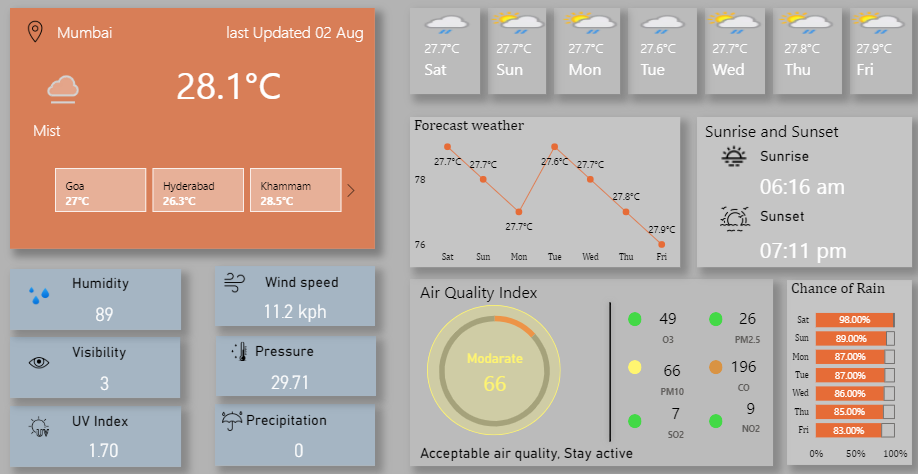

The dashboard page shown, as its layout file describes it:
{"tool":"powerbi","page":{"name":"Page 1","canvas":[1150,600],"ordinal":0},"visuals":[{"type":"shape","box":[512.2,350,454.4,234.4],"z":0},{"type":"donutChart","fields":{"Y":["Sum(current.current.air_quality.pm10)","key Measures.left value pm 10"]},"box":[498.6,374.3,238.6,182.9],"z":1000},{"type":"shape","box":[12.9,11.4,455.7,301.4],"z":2000},{"type":"shape","box":[871.2,147.5,268.8,187.5],"z":3000},{"type":"shape","box":[534.3,382.9,167.1,162.9],"z":4000},{"type":"advancedSlicerVisual","fields":{"Values":["location.location.name"]},"box":[44.3,205.7,410,65.7],"z":5000},{"type":"shape","box":[220,73.3,140,63.3],"z":6000},{"type":"shape","box":[41.7,145,360,35],"z":7000},{"type":"shape","box":[71.7,20,148.3,41.7],"z":8000},{"type":"shape","box":[178.6,20,160,41.4],"z":9000},{"type":"image","box":[25,18.3,38.3,43.3],"z":10000},{"type":"shape","box":[241.1,20,213.3,41.1],"z":11000},{"type":"cardVisual","fields":{"Data":["Min(current.current.condition.icon)"]},"box":[33.3,63.3,160,81.7],"z":12000},{"type":"shape","box":[12.9,337.1,214.3,75.7],"z":13000},{"type":"shape","box":[12.9,508.6,214.3,75.7],"z":14000},{"type":"shape","box":[268.8,506.2,200,76.7],"z":15000},{"type":"shape","box":[12.9,422.9,212.9,75.7],"z":16000},{"type":"shape","box":[270,421.2,200,75],"z":17000},{"type":"shape","box":[268.8,333.8,200,75],"z":18000},{"type":"shape","box":[90,336.2,137.5,37.5],"z":19000},{"type":"image","box":[27.1,351.4,42.9,38.6],"z":20000},{"type":"shape","box":[331.2,335,137.5,37.5],"z":21000},{"type":"image","box":[268.8,335,48.8,38.8],"z":22000},{"type":"image","box":[25.7,435.7,44.3,37.1],"z":23000},{"type":"shape","box":[90,422.5,131.2,37.5],"z":24000},{"type":"shape","box":[318.8,421.2,137.5,37.5],"z":25000},{"type":"shape","box":[90,508.8,131.2,37.5],"z":26000},{"type":"shape","box":[307.5,507.5,147.5,37.5],"z":27000},{"type":"image","box":[280,422.5,38.8,35],"z":28000},{"type":"image","box":[268.8,510,43.8,35],"z":29000},{"type":"image","box":[25.7,515.7,44.3,35.7],"z":30000},{"type":"card","fields":{"Values":["Sum(current.current.pressure_in)"]},"box":[270,460,186.2,37.5],"z":31000},{"type":"card","fields":{"Values":["key Measures.wind_speed"]},"box":[268.8,371.2,200,37.5],"z":32000},{"type":"card","fields":{"Values":["Sum(current.current.uv)"]},"box":[32.9,544.3,192.9,38.6],"z":33000},{"type":"card","fields":{"Values":["Sum(current.current.precip_in)"]},"box":[280,544.3,187.1,38.6],"z":34000},{"type":"card","fields":{"Values":["Sum(current.current.vis_km)"]},"box":[33.8,461.2,193.8,37.5],"z":35000},{"type":"card","fields":{"Values":["Sum(current.current.humidity)"]},"box":[33.8,375,193.8,37.5],"z":36000},{"type":"advancedSlicerVisual","fields":{"Values":["forecast Day.Day_Name"]},"box":[512.5,5,638.8,113.8],"z":37000},{"type":"lineChart","title":"Forecast weather","fields":{"Y":["Sum(forecast Day.forecast.forecastday.day.avghumidity)"],"Category":["forecast Day.Day_Name"]},"box":[512.5,147.5,337.5,187.5],"z":38000},{"type":"shape","box":[512.5,11.2,87.5,107.5],"z":39000},{"type":"shape","box":[610,11.2,72.5,107.5],"z":40000},{"type":"shape","box":[692.5,11.2,82.5,107.5],"z":41000},{"type":"shape","box":[785,11.2,86.2,107.5],"z":42000},{"type":"shape","box":[881.2,11.2,75,107.5],"z":43000},{"type":"shape","box":[966.2,11.2,86.2,107.5],"z":44000},{"type":"shape","box":[1062.5,11.2,77.5,107.5],"z":45000},{"type":"shape","box":[881.2,145,258.8,37.5],"z":46000},{"type":"shape","box":[950,211.2,137.5,41.2],"z":47000},{"type":"shape","box":[950,290,137.5,45],"z":48000},{"type":"shape","box":[950,180,137.5,31.2],"z":49000},{"type":"shape","box":[950,252.5,137.5,37.5],"z":50000},{"type":"image","box":[895,250,47.5,50],"z":51000},{"type":"image","box":[895,173.8,45,45],"z":52000},{"type":"hundredPercentStackedBarChart","title":"Chance of Rain","fields":{"Category":["forecast Day.Day_Name"],"Y":["Sum(forecast Day.forecast.forecastday.day.daily_chance_of_rain)","key Measures.left value rain"]},"box":[984.3,351.4,155.7,231.4],"z":53000},{"type":"shape","box":[525.6,350,190,31.1],"z":54000},{"type":"card","fields":{"Values":["Sum(current.current.air_quality.co)"]},"box":[902.5,440,53.8,56.2],"z":55000},{"type":"card","fields":{"Values":["Sum(current.current.air_quality.no2)"]},"box":[911.1,492.2,54.4,54.4],"z":56000},{"type":"card","fields":{"Values":["Sum(current.current.air_quality.o3)"]},"box":[808.8,381.2,52.5,53.8],"z":57000},{"type":"card","fields":{"Values":["Sum(current.current.air_quality.pm2_5)"]},"box":[902.5,381.2,63.8,53.8],"z":58000},{"type":"card","fields":{"Values":["Sum(current.current.air_quality.so2)"]},"box":[808.9,498.9,72.2,56.7],"z":59000},{"type":"card","fields":{"Values":["Sum(current.current.air_quality.pm10)"]},"box":[808.8,440,62.5,66.2],"z":60000},{"type":"shape","box":[886.4,518.6,17.1,17.9],"z":61000},{"type":"shape","box":[785,518.6,17.1,17.9],"z":62000},{"type":"shape","box":[886.4,450.7,17.1,17.9],"z":63000},{"type":"shape","box":[785,451.4,17.1,17.9],"z":64000},{"type":"shape","box":[785,391.4,17.1,17.9],"z":65000},{"type":"shape","box":[886.4,391.4,17.1,17.9],"z":66000},{"type":"shape","box":[715.7,371.4,92.9,190],"z":67000},{"type":"card","fields":{"Values":["Sum(current.current.air_quality.pm10)"]},"box":[573.3,438.3,90,66.7],"z":68000},{"type":"shape","box":[525.6,551.1,440,33.3],"z":69000}]}

Visuals, with their boxes in screenshot pixels (x1, y1, x2, y2), scaled from the page's 1150x600 canvas onto the 918x474 screenshot:
shape: bbox=[409, 276, 772, 462]
donutChart - Sum(current.current.air_quality.pm10) x key Measures.left value pm 10: bbox=[398, 296, 588, 440]
shape: bbox=[10, 9, 374, 247]
shape: bbox=[695, 117, 910, 265]
shape: bbox=[427, 302, 560, 431]
advancedSlicerVisual - location.location.name: bbox=[35, 163, 363, 214]
shape: bbox=[176, 58, 287, 108]
shape: bbox=[33, 115, 321, 142]
shape: bbox=[57, 16, 176, 49]
shape: bbox=[143, 16, 270, 49]
image: bbox=[20, 14, 51, 49]
shape: bbox=[192, 16, 363, 48]
cardVisual - Min(current.current.condition.icon): bbox=[27, 50, 154, 115]
shape: bbox=[10, 266, 181, 326]
shape: bbox=[10, 402, 181, 462]
shape: bbox=[215, 400, 374, 460]
shape: bbox=[10, 334, 180, 394]
shape: bbox=[216, 333, 375, 392]
shape: bbox=[215, 264, 374, 323]
shape: bbox=[72, 266, 182, 295]
image: bbox=[22, 278, 56, 308]
shape: bbox=[264, 265, 374, 294]
image: bbox=[215, 265, 254, 295]
image: bbox=[21, 344, 56, 374]
shape: bbox=[72, 334, 177, 363]
shape: bbox=[254, 333, 364, 362]
shape: bbox=[72, 402, 177, 432]
shape: bbox=[245, 401, 363, 431]
image: bbox=[224, 334, 254, 361]
image: bbox=[215, 403, 250, 431]
image: bbox=[21, 407, 56, 436]
card - Sum(current.current.pressure_in): bbox=[216, 363, 364, 393]
card - key Measures.wind_speed: bbox=[215, 293, 374, 323]
card - Sum(current.current.uv): bbox=[26, 430, 180, 460]
card - Sum(current.current.precip_in): bbox=[224, 430, 373, 460]
card - Sum(current.current.vis_km): bbox=[27, 364, 182, 394]
card - Sum(current.current.humidity): bbox=[27, 296, 182, 326]
advancedSlicerVisual - forecast Day.Day_Name: bbox=[409, 4, 917, 94]
"Forecast weather" lineChart: bbox=[409, 117, 679, 265]
shape: bbox=[409, 9, 479, 94]
shape: bbox=[487, 9, 545, 94]
shape: bbox=[553, 9, 619, 94]
shape: bbox=[627, 9, 695, 94]
shape: bbox=[703, 9, 763, 94]
shape: bbox=[771, 9, 840, 94]
shape: bbox=[848, 9, 910, 94]
shape: bbox=[703, 115, 910, 144]
shape: bbox=[758, 167, 868, 199]
shape: bbox=[758, 229, 868, 265]
shape: bbox=[758, 142, 868, 167]
shape: bbox=[758, 199, 868, 229]
image: bbox=[714, 198, 752, 237]
image: bbox=[714, 137, 750, 173]
"Chance of Rain" hundredPercentStackedBarChart: bbox=[786, 278, 910, 460]
shape: bbox=[420, 276, 571, 301]
card - Sum(current.current.air_quality.co): bbox=[720, 348, 763, 392]
card - Sum(current.current.air_quality.no2): bbox=[727, 389, 771, 432]
card - Sum(current.current.air_quality.o3): bbox=[646, 301, 688, 344]
card - Sum(current.current.air_quality.pm2_5): bbox=[720, 301, 771, 344]
card - Sum(current.current.air_quality.so2): bbox=[646, 394, 703, 439]
card - Sum(current.current.air_quality.pm10): bbox=[646, 348, 696, 400]
shape: bbox=[708, 410, 721, 424]
shape: bbox=[627, 410, 640, 424]
shape: bbox=[708, 356, 721, 370]
shape: bbox=[627, 357, 640, 371]
shape: bbox=[627, 309, 640, 323]
shape: bbox=[708, 309, 721, 323]
shape: bbox=[571, 293, 645, 444]
card - Sum(current.current.air_quality.pm10): bbox=[458, 346, 529, 399]
shape: bbox=[420, 435, 771, 462]
